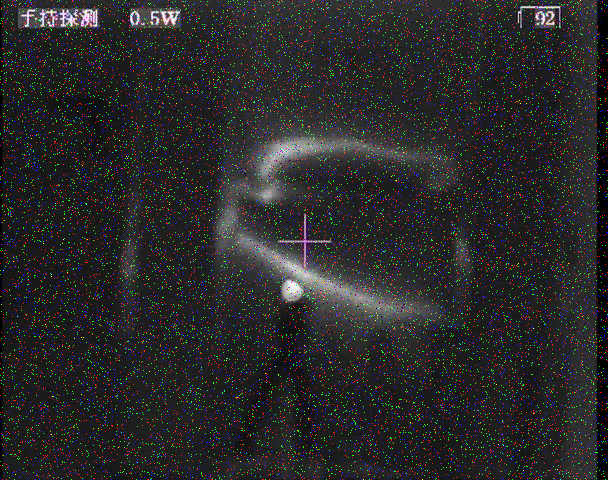my: (280, 279, 306, 302)
